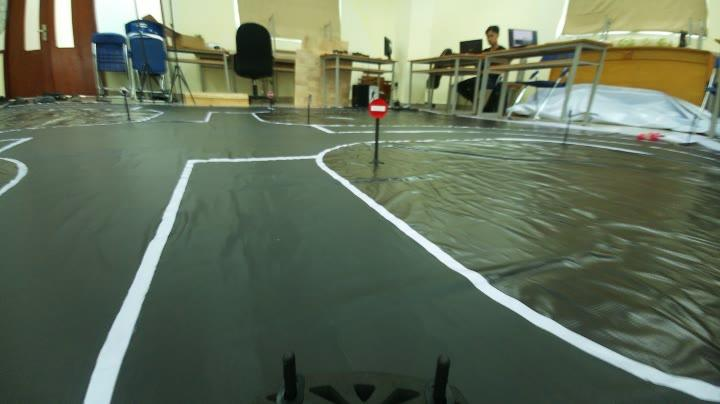no_entry: (364, 94, 396, 124)
